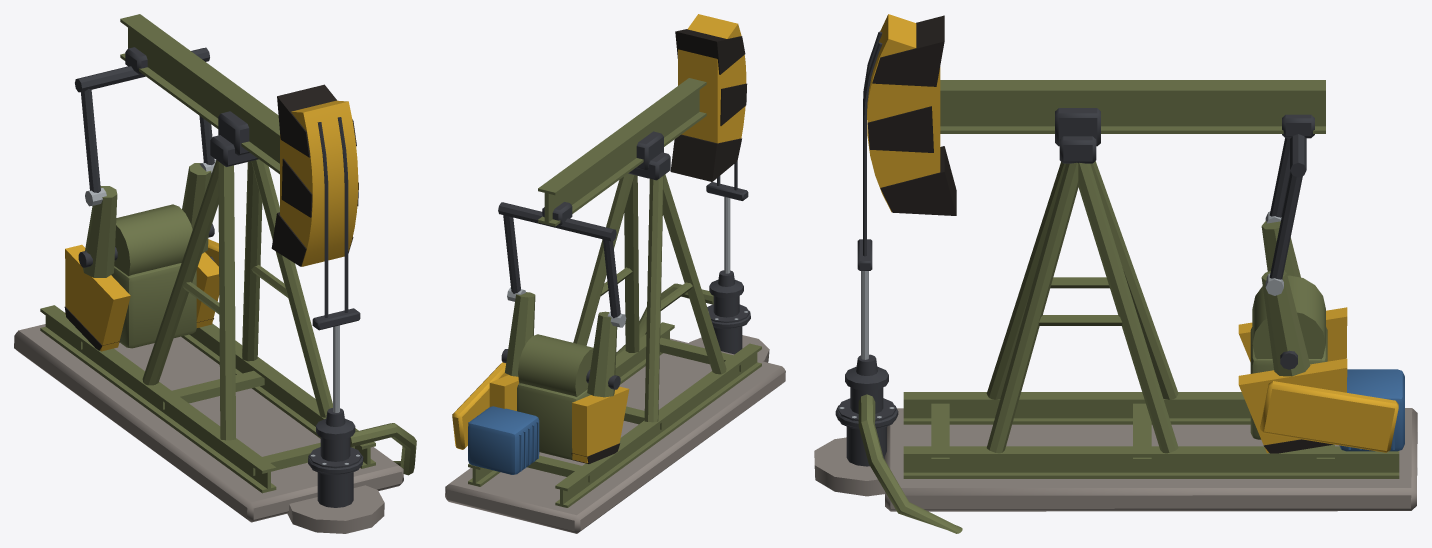
Rendered from deco_pump_jack.fbx.
The picture shows the model from 3 angles, left to right: view 1: azimuth 30°, elevation 25°; view 2: azimuth 150°, elevation 25°; view 3: azimuth 270°, elevation 25°; orthographic projection. The views are drawn at different scales.
Visible parts, largest first — view 1: PumpJack_Base, PumpJack_Beam, PumpJack_Post, PumpJack_Crank, PumpJack_Pitman; view 2: PumpJack_Base, PumpJack_Beam, PumpJack_Post, PumpJack_Crank, PumpJack_Pitman; view 3: PumpJack_Base, PumpJack_Beam, PumpJack_Post, PumpJack_Crank, PumpJack_Pitman.
Part boxes in pixels (bbox=[...]): PumpJack_Base: bbox=[14, 204, 416, 533]; PumpJack_Beam: bbox=[75, 14, 360, 412]; PumpJack_Post: bbox=[142, 135, 332, 440]; PumpJack_Crank: bbox=[64, 163, 219, 351]; PumpJack_Pitman: bbox=[81, 89, 215, 206]; PumpJack_Base: bbox=[445, 270, 785, 533]; PumpJack_Beam: bbox=[498, 14, 748, 273]; PumpJack_Post: bbox=[573, 152, 726, 422]; PumpJack_Crank: bbox=[489, 292, 629, 463]; PumpJack_Pitman: bbox=[503, 215, 626, 327]; PumpJack_Base: bbox=[814, 275, 1417, 533]; PumpJack_Beam: bbox=[857, 14, 1325, 359]; PumpJack_Post: bbox=[986, 136, 1178, 453]; PumpJack_Crank: bbox=[1238, 221, 1347, 453]; PumpJack_Pitman: bbox=[1265, 138, 1302, 295].
Bounding box in the file's own units: 129 × 270 × 329.
